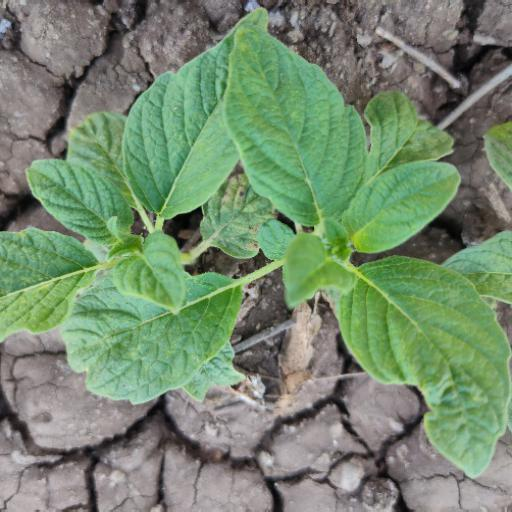crop: (20, 22, 508, 490)
